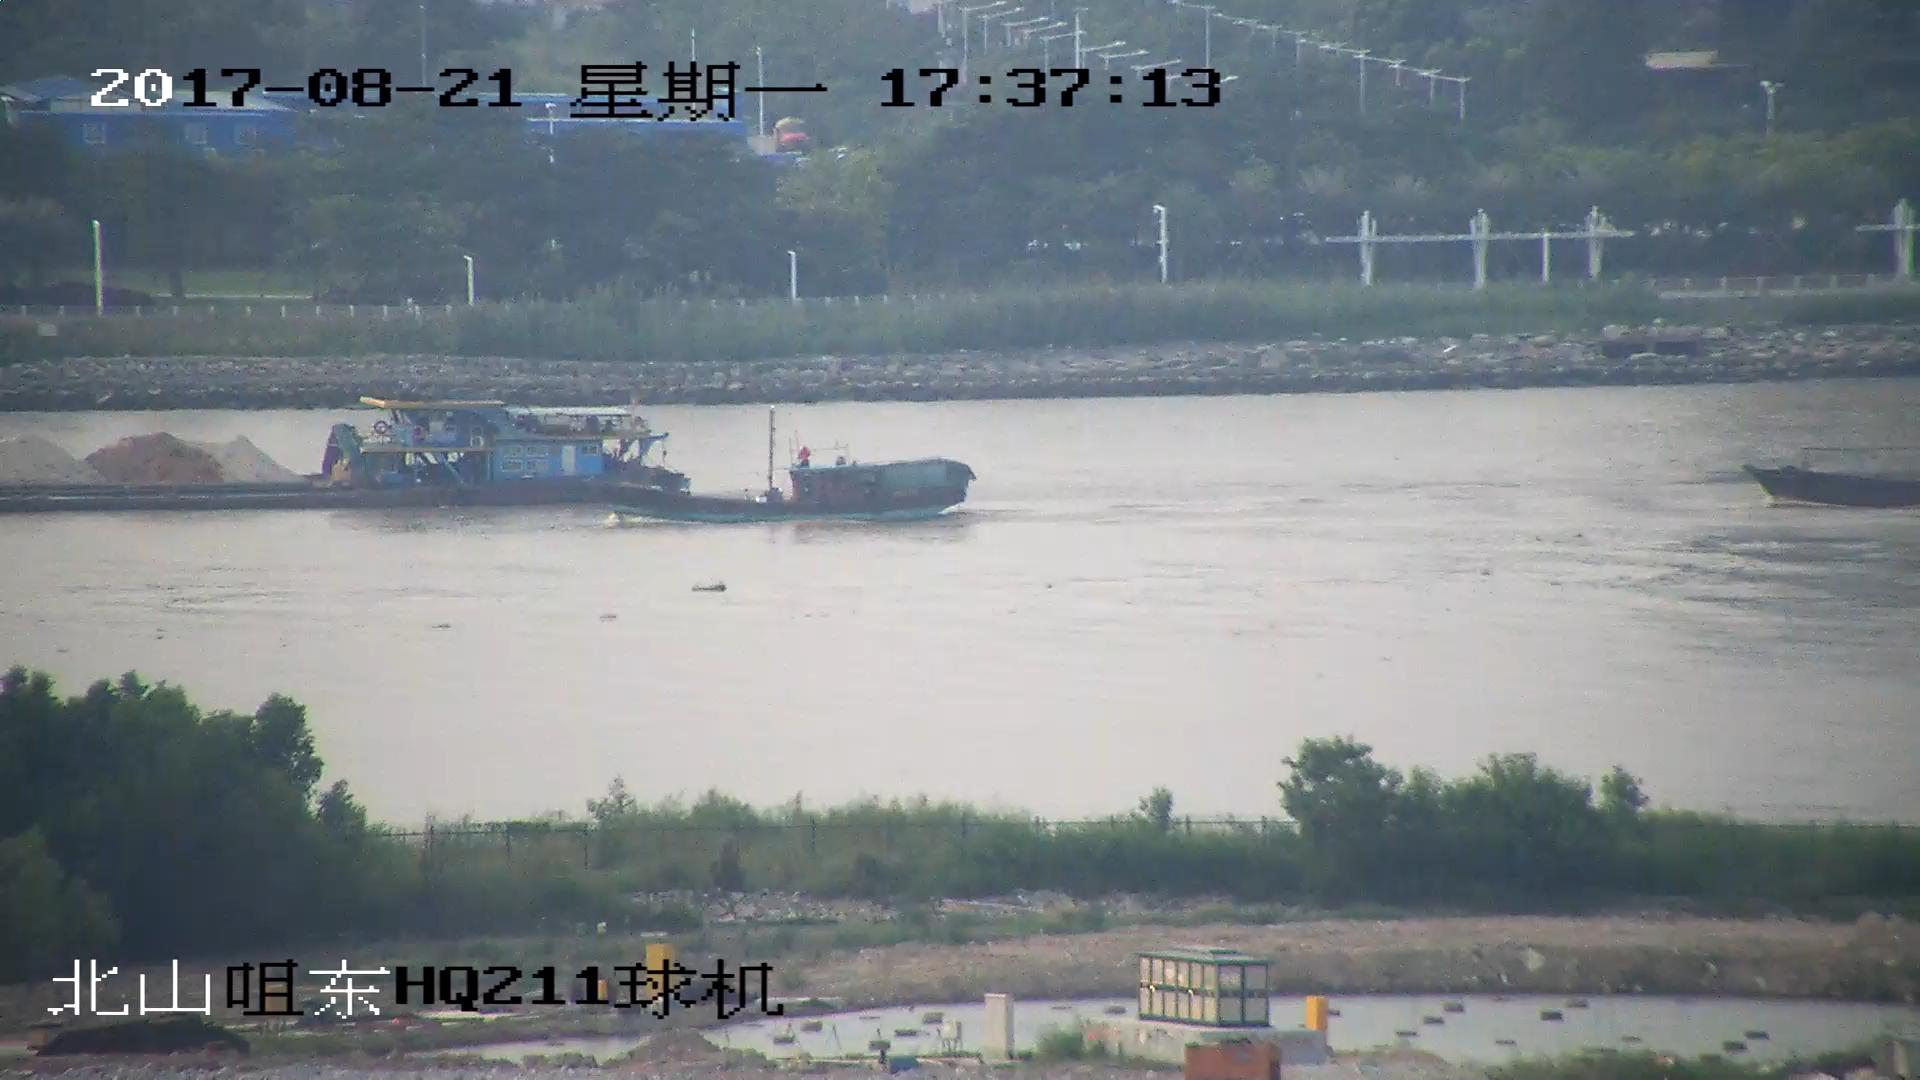fishing boat: (583, 408, 976, 526), (1747, 445, 1920, 510)
ore carrier: (1, 388, 646, 506)
